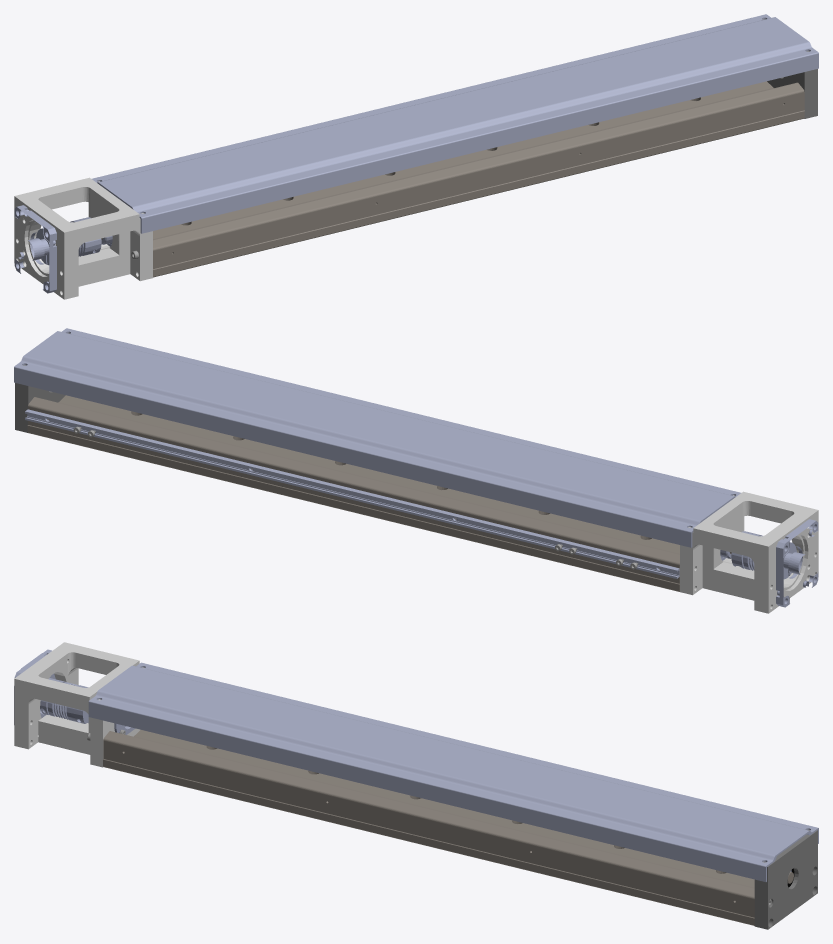
Rendered from kk86_rail.glb.
3 views of the same model, one above another, from view 1: azimuth 30°, elevation 25°; view 2: azimuth 150°, elevation 25°; view 3: azimuth 330°, elevation 25° (orthographic).
Parts seen in each view (by area): view 1: world; view 2: world; view 3: world.
Part boxes in pixels (x1,y1,x2,y2): world: (14,14,818,299); world: (14,328,818,613); world: (14,642,818,929).
Bounding box in the file's own units: 750 × 64.5 × 97.5.
